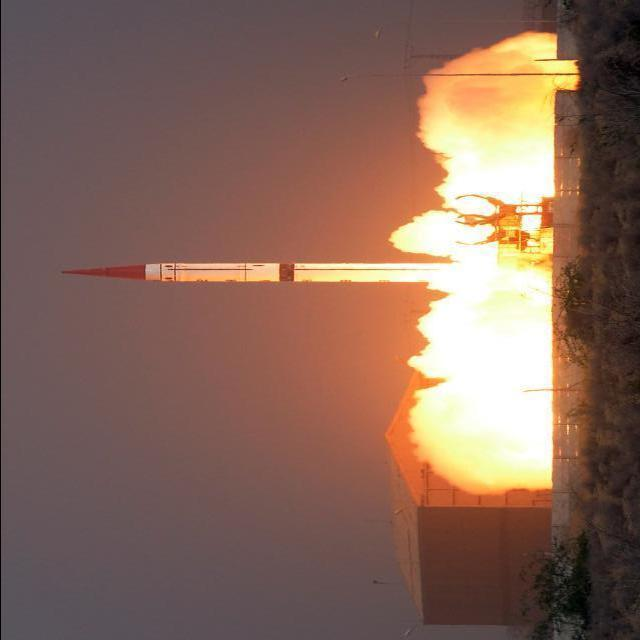missile: (60, 256, 504, 306)
